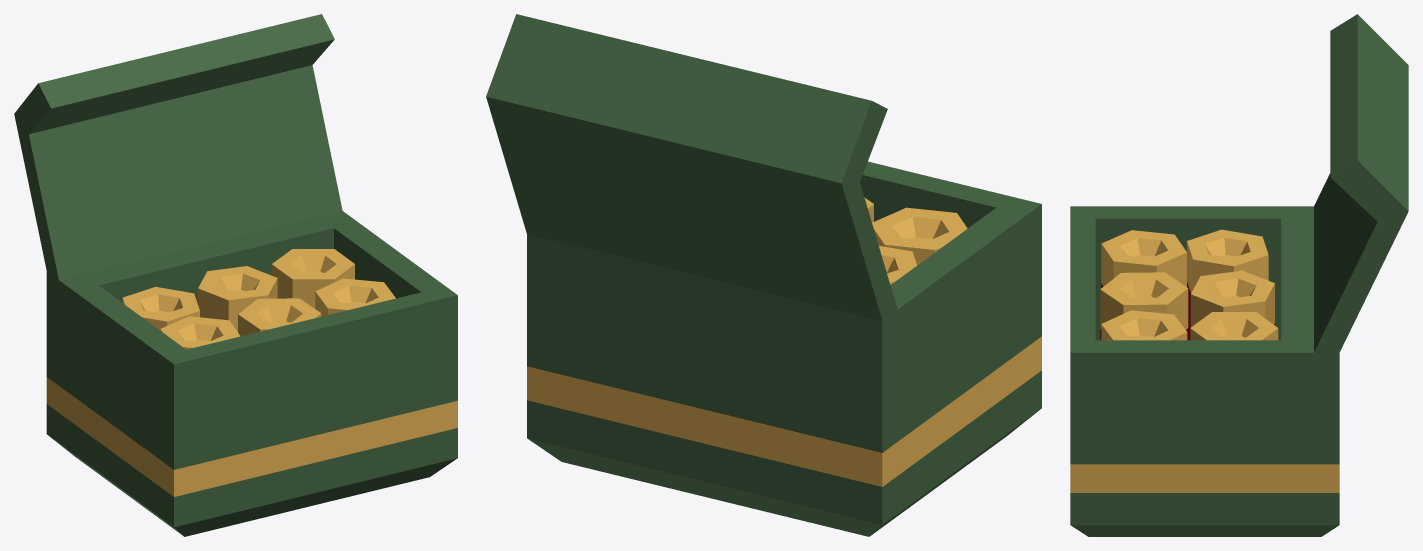
Rendered from ammo-pack.fbx.
3 renders of one model, left to right at view 1: azimuth 30°, elevation 25°; view 2: azimuth 150°, elevation 25°; view 3: azimuth 270°, elevation 25°, orthographic. The views are drawn at different scales.
Parts seen in each view (by area): view 1: Cube; view 2: Cube; view 3: Cube.
Boxes of the visible parts, x1,y1,x2,y2 form: Cube: (14, 14, 457, 536); Cube: (486, 14, 1041, 536); Cube: (1070, 14, 1408, 536).
Size of the model in its own units: 324 by 398 by 316.
